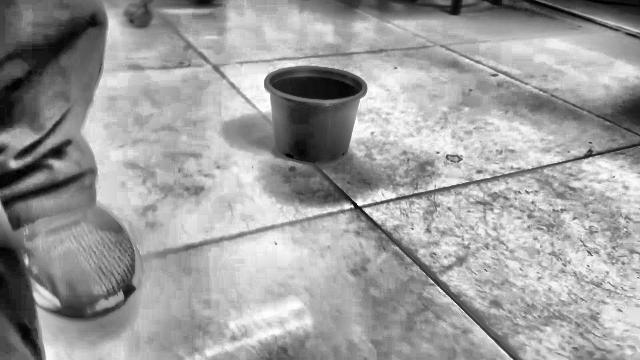pot: (264, 67, 367, 163)
